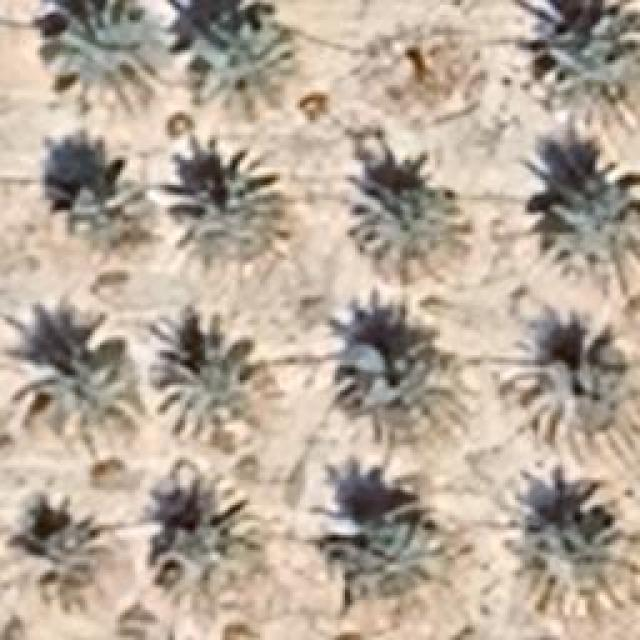PalmTree: (492, 318, 638, 450), (142, 480, 262, 612), (152, 320, 286, 438), (8, 335, 142, 440), (500, 518, 635, 618), (180, 19, 305, 122), (342, 185, 470, 285), (542, 170, 638, 292), (10, 520, 130, 615), (342, 332, 446, 438), (50, 19, 165, 112), (45, 170, 160, 260), (330, 508, 442, 600), (544, 10, 638, 110), (184, 168, 282, 262)
